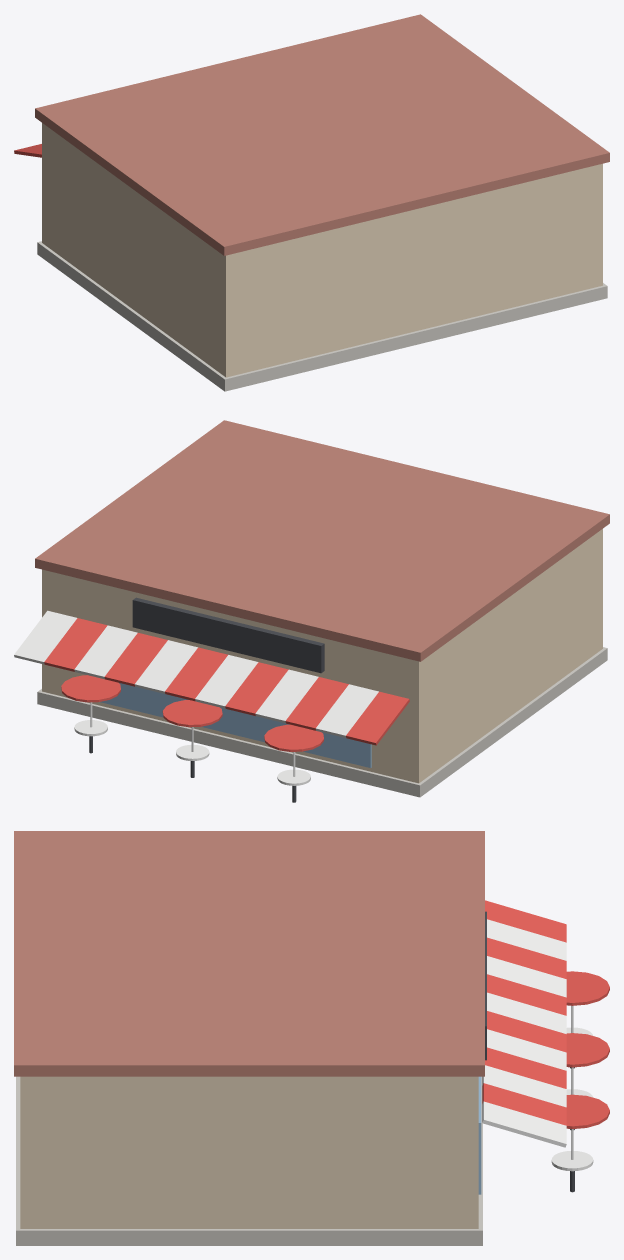
The model's file is B_cafe.fbx.
3 renders of one model, top to bottom at view 1: azimuth 30°, elevation 25°; view 2: azimuth 150°, elevation 25°; view 3: azimuth 270°, elevation 25°, orthographic. The views are drawn at different scales.
Visible parts, largest first — view 1: Roof, Wall.002, Concrete.003; view 2: Roof, Wall.002, Accent.004, White.004, Concrete.003, Dark.010, Glass.003; view 3: Roof, Wall.002, Accent.004, White.004, Concrete.003.
Part boxes in pixels (box(x1,y1,x2,y2)): Roof: box(35, 14, 609, 255); Wall.002: box(42, 123, 602, 377); Concrete.003: box(37, 241, 607, 391); Roof: box(35, 420, 609, 661); Wall.002: box(42, 529, 602, 783); Accent.004: box(44, 618, 409, 751); White.004: box(14, 610, 378, 785); Concrete.003: box(37, 647, 607, 797); Dark.010: box(89, 597, 324, 802); Glass.003: box(100, 683, 371, 767); Roof: box(14, 831, 484, 1076); Wall.002: box(20, 1076, 478, 1228); Accent.004: box(482, 900, 609, 1128); White.004: box(482, 919, 593, 1171); Concrete.003: box(16, 1076, 482, 1245).
Bounding box in the file's own units: 26.6 × 9.6 × 28.6.
